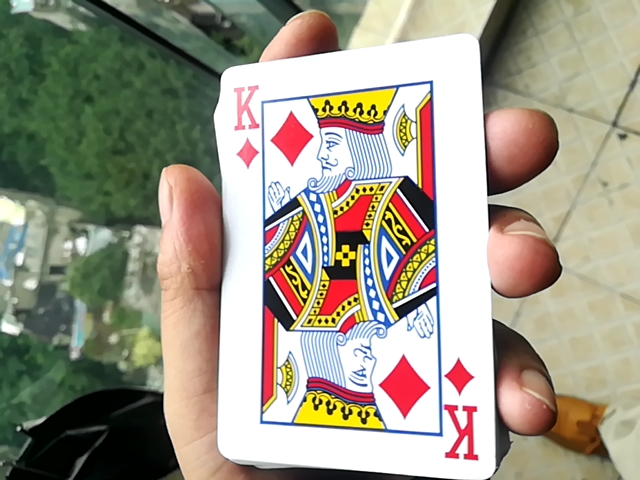fk k: (203, 23, 494, 476)
